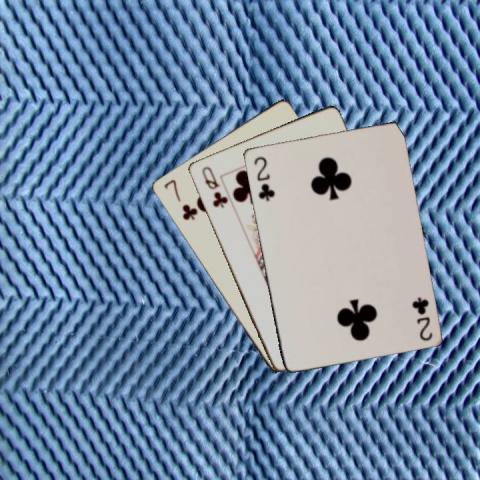2c: (251, 153, 276, 202), (409, 294, 433, 342)
7c: (160, 176, 197, 222)
Qc: (198, 163, 229, 209)
